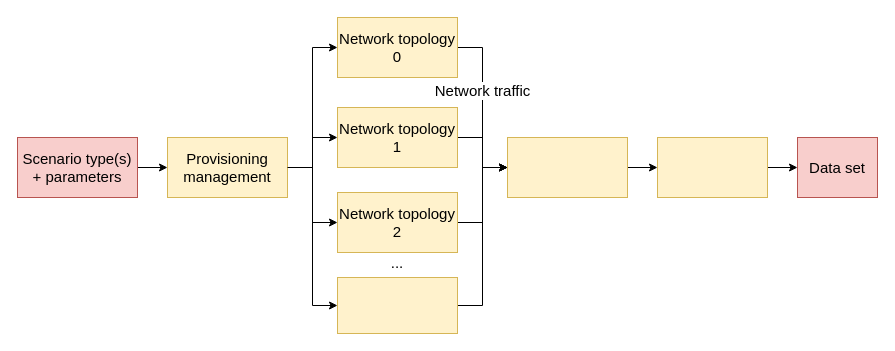
Image size: 895x351. Some labels were removed from this diagram. The centre of each missing label's shape, as x and y in pixels:
"Data extraction" goes at point (712, 167).
"Network recorder" goes at point (567, 167).
"Network topology N" goes at point (397, 305).
